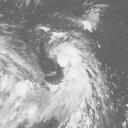cyclone: (39, 24, 111, 100)
